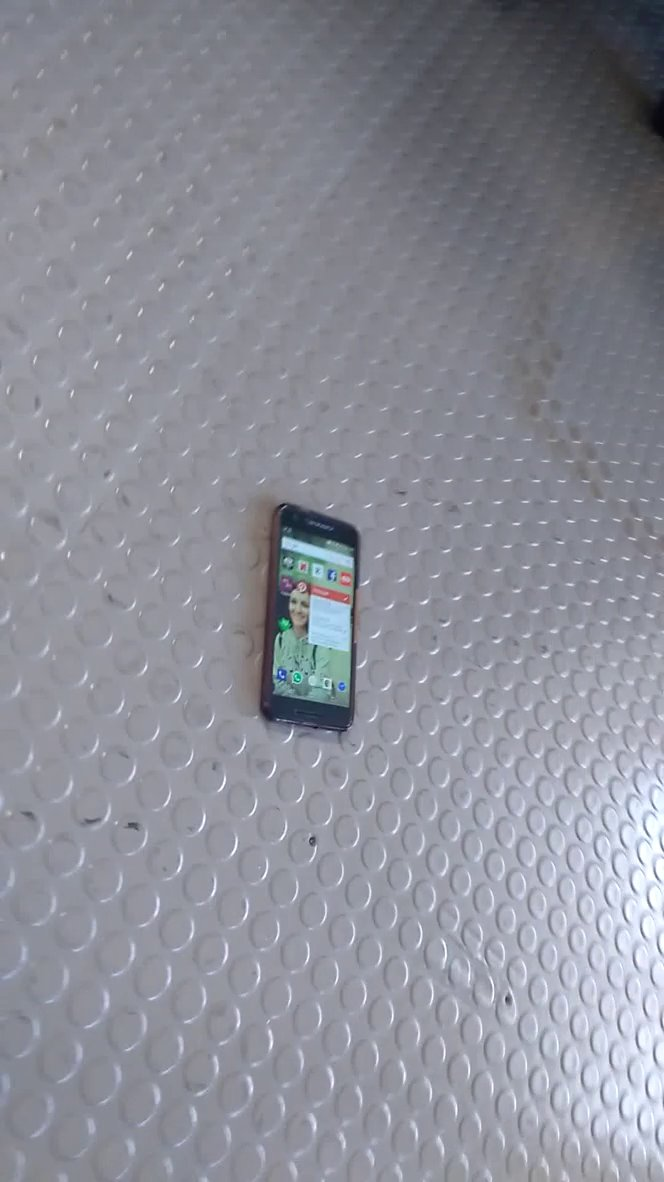phone: (242, 492, 381, 748)
